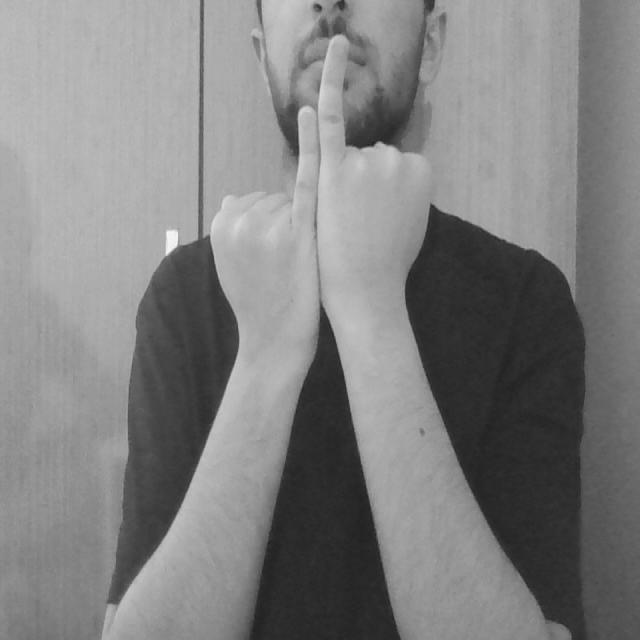Kardes: (205, 27, 438, 336)
